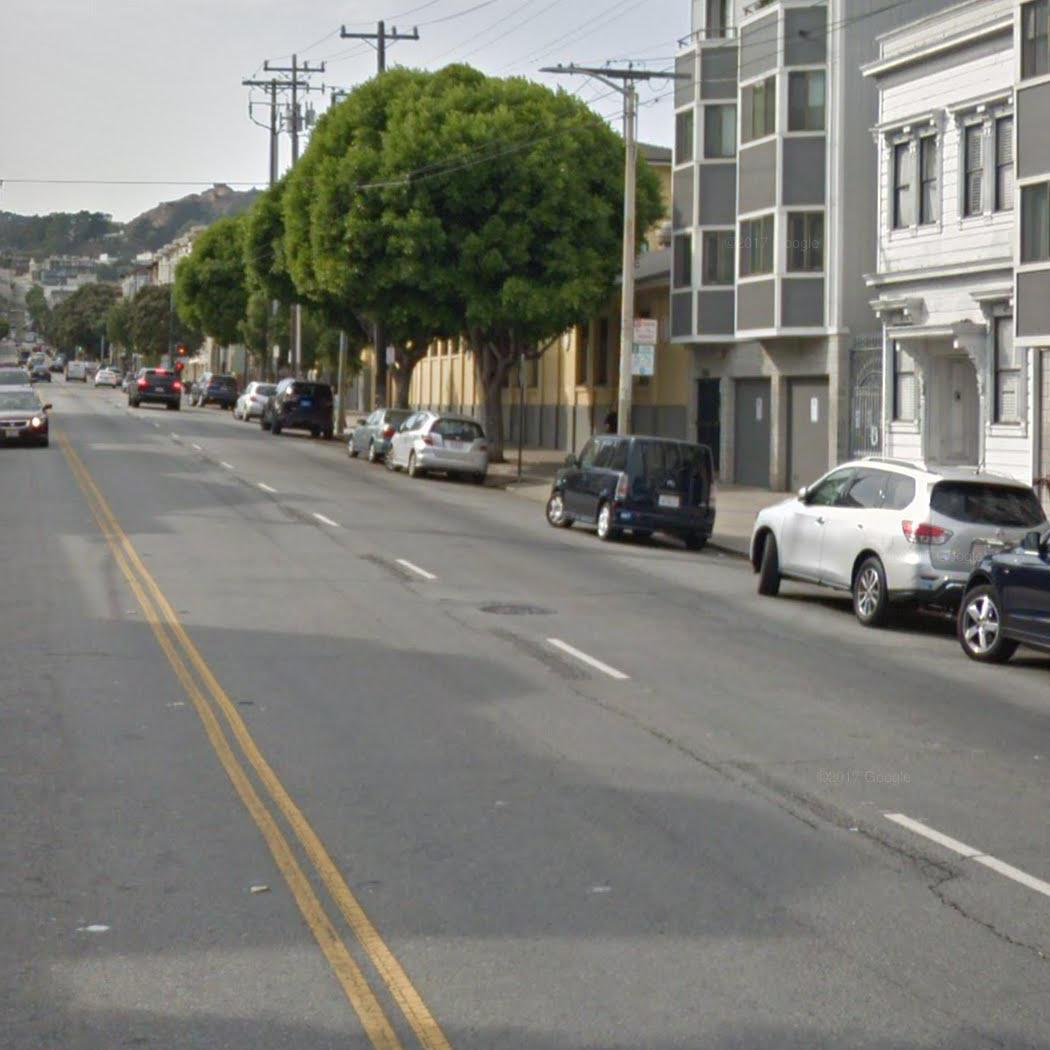1 Hour Parking: (628, 343, 658, 377)
No Parking: (630, 315, 660, 344)
